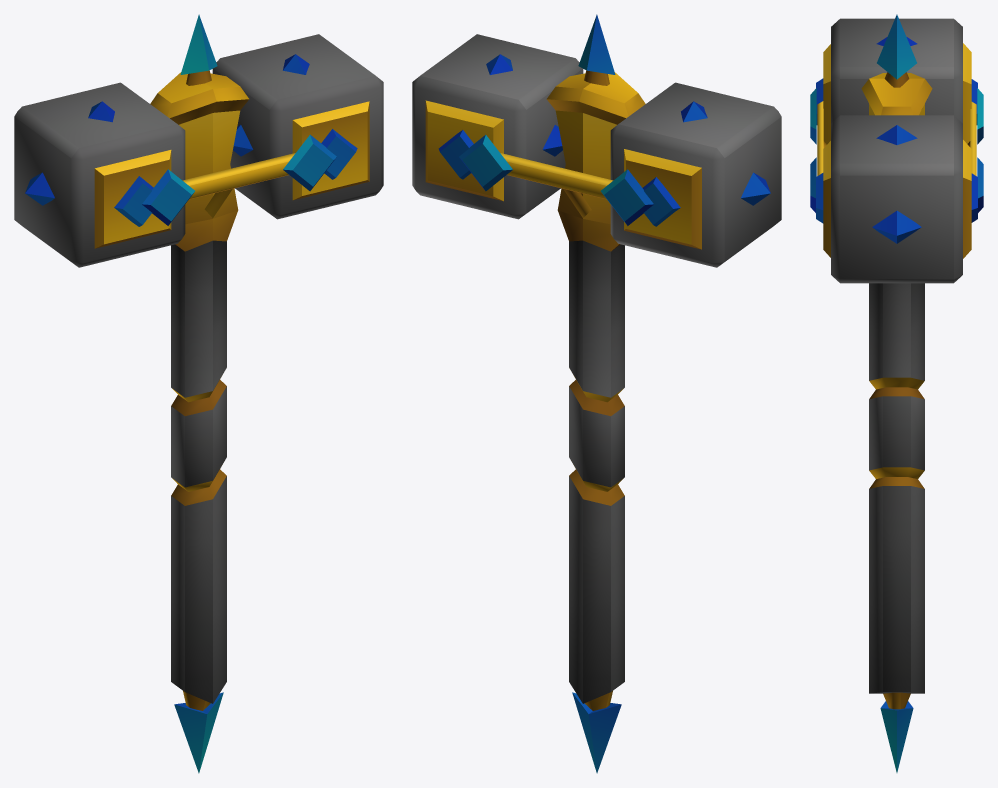
Rendered from Mace1h_22.fbx.
3 views of the same model, side by side, from view 1: azimuth 30°, elevation 25°; view 2: azimuth 150°, elevation 25°; view 3: azimuth 270°, elevation 25° (orthographic).
Visible parts, largest first — view 1: Mace1h_22; view 2: Mace1h_22; view 3: Mace1h_22.
Boxes of the visible parts, x1,y1,x2,y2 form: Mace1h_22: (14, 14, 383, 773); Mace1h_22: (412, 14, 781, 773); Mace1h_22: (810, 14, 983, 772).
Bounding box in the file's own units: 40.89 × 85.34 × 17.63.
